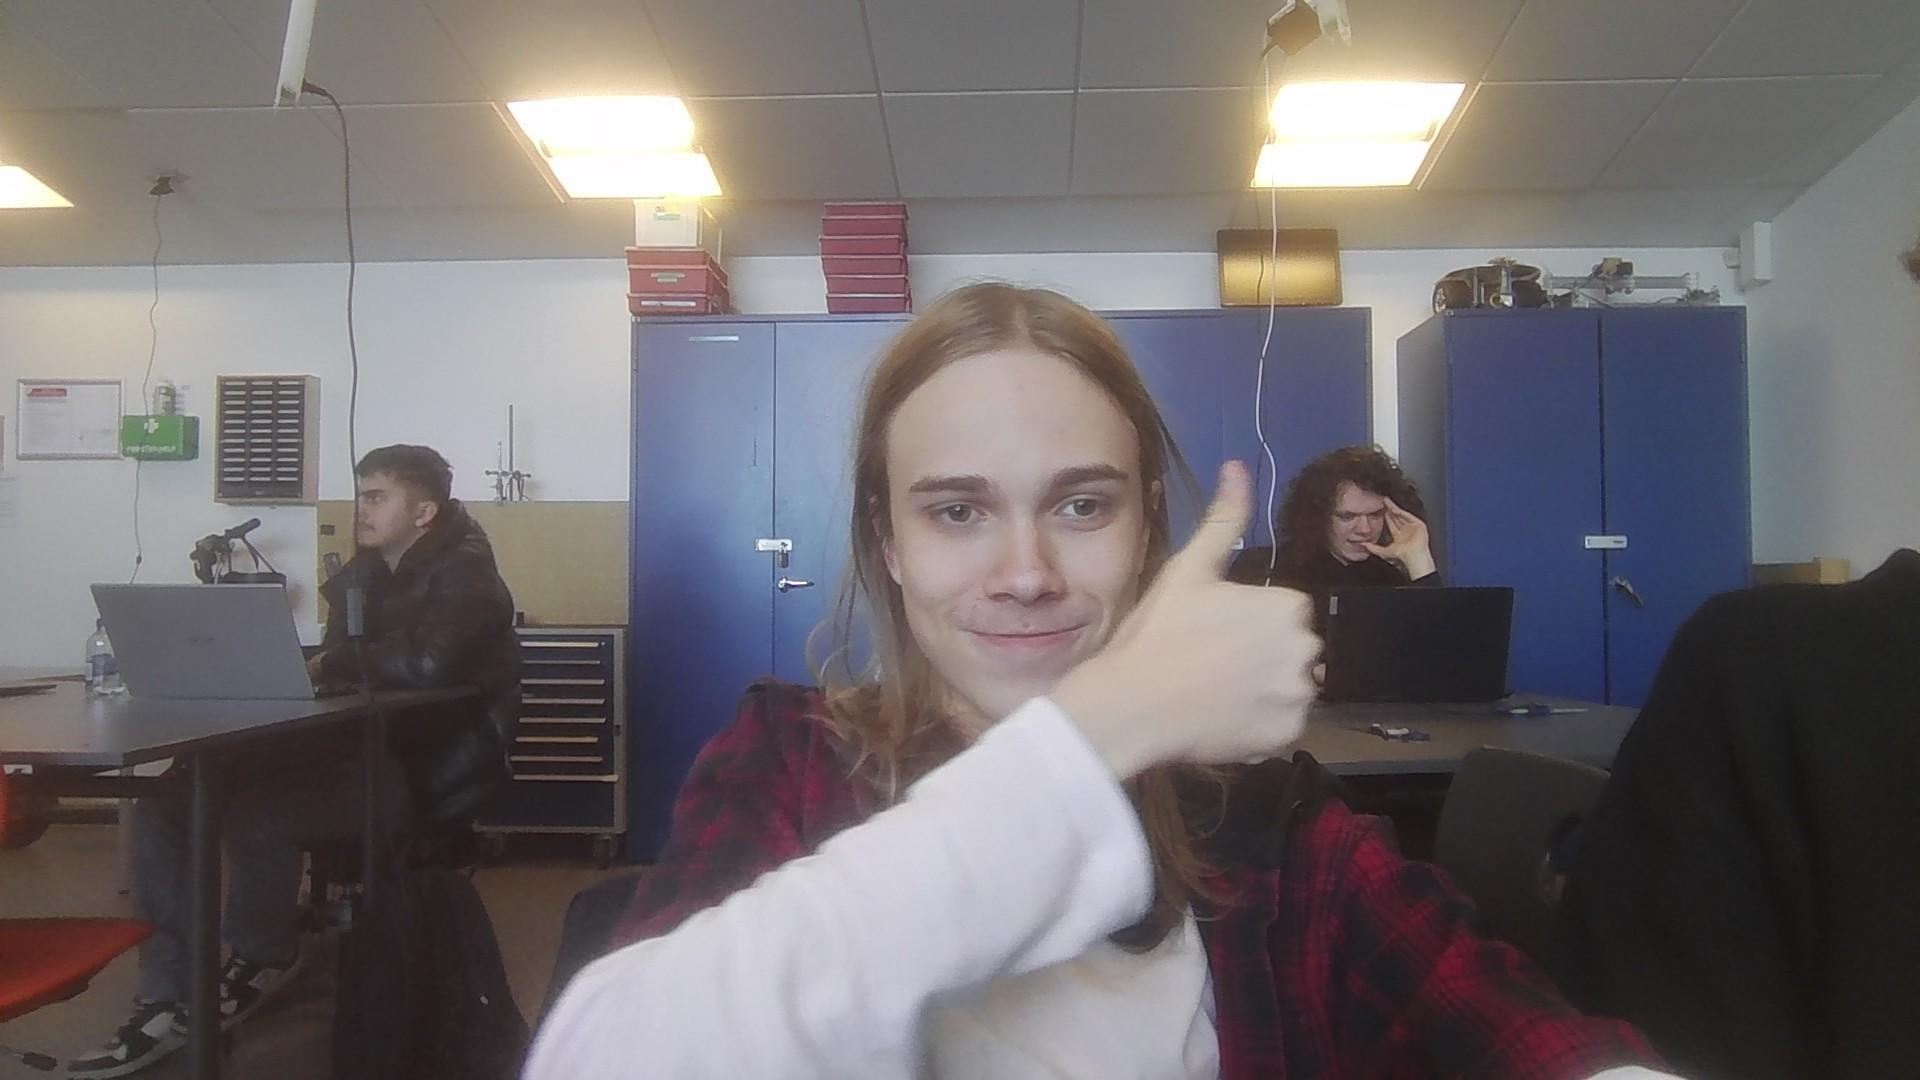thumbs up: (1108, 451, 1320, 767)
